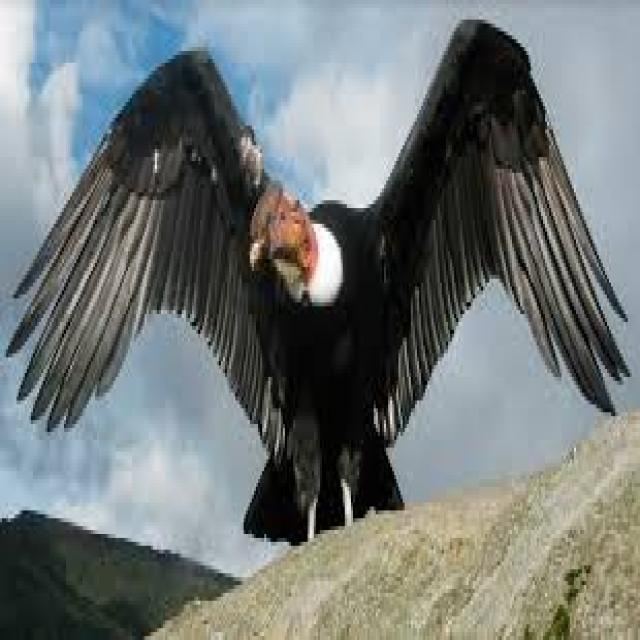Carnivorous: (10, 20, 632, 546)
